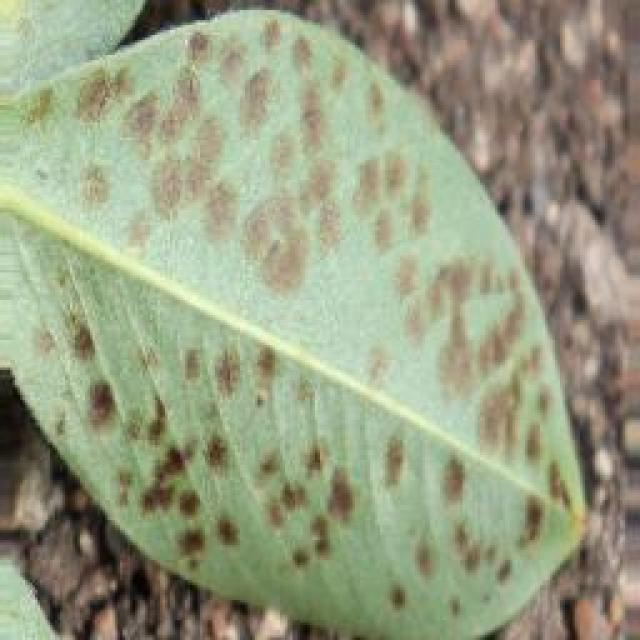Whitefly: (0, 4, 589, 598)
